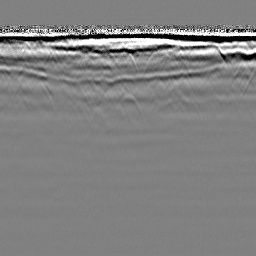cavity: (113, 90, 144, 120)
